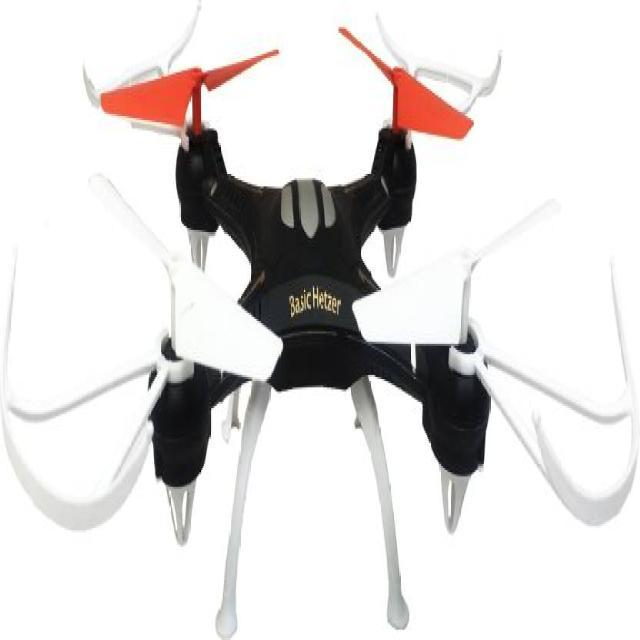drone: (14, 19, 640, 630)
